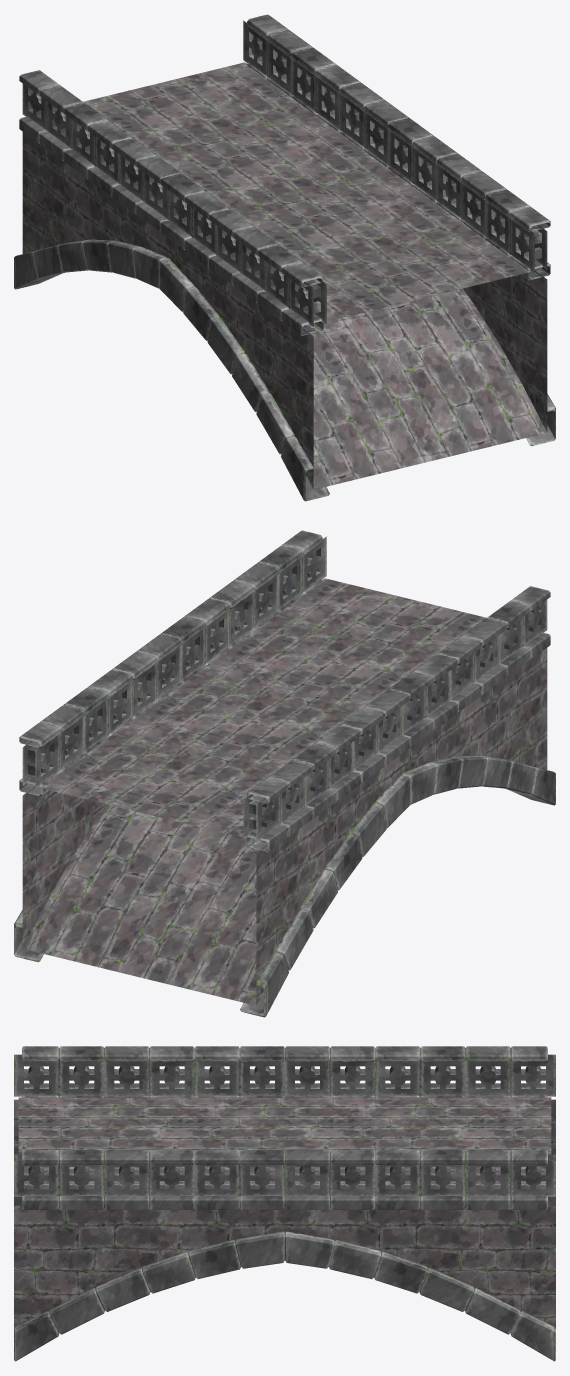
The model's file is bridge_seg_2.fbx.
3 views of the same model, one above another, from view 1: azimuth 30°, elevation 25°; view 2: azimuth 150°, elevation 25°; view 3: azimuth 270°, elevation 25° (orthographic). The views are drawn at different scales.
Visible parts, largest first — view 1: bridge_seg_2; view 2: bridge_seg_2; view 3: bridge_seg_2.
Part boxes in pixels (x1,y1,x2,y2): bridge_seg_2: (14, 14, 555, 501); bridge_seg_2: (14, 530, 555, 1017); bridge_seg_2: (14, 1046, 555, 1361).
Size of the model in its own units: 24.49 by 20.19 by 48.93.
